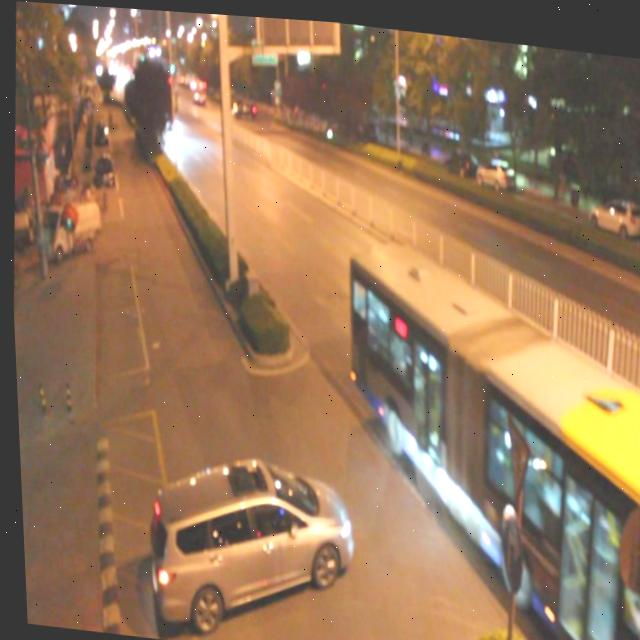car: (142, 443, 355, 639), (399, 265, 468, 338)
van: (324, 237, 640, 640)
